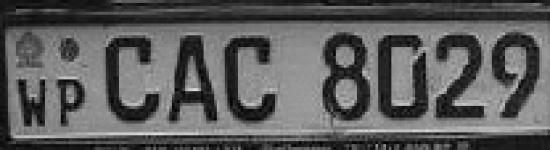0: (376, 28, 430, 125)
2: (432, 31, 484, 122)
8: (316, 29, 374, 125)
9: (487, 27, 545, 122)
A: (168, 30, 220, 129)
C: (102, 33, 164, 126), (220, 30, 280, 126)
P: (53, 72, 93, 130)
W: (13, 69, 51, 130)
